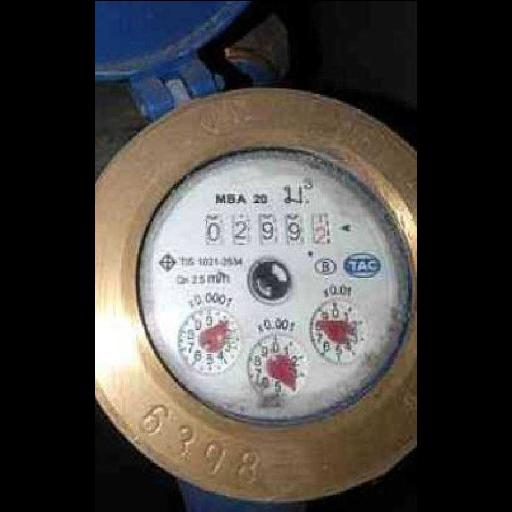0: (206, 214, 223, 244)
2: (233, 214, 250, 244), (313, 214, 329, 244)
9: (260, 215, 277, 244), (286, 215, 303, 244)
border_water_meter_number: (202, 211, 333, 247)
